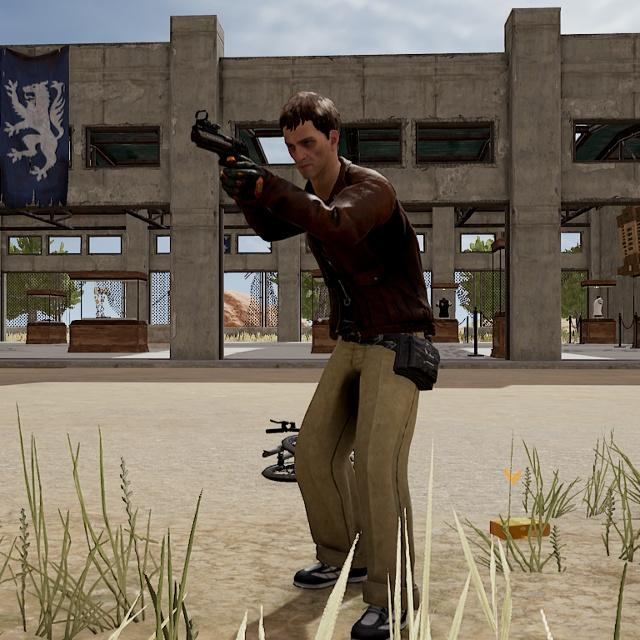head: (274, 84, 349, 187)
people: (262, 85, 442, 640)
